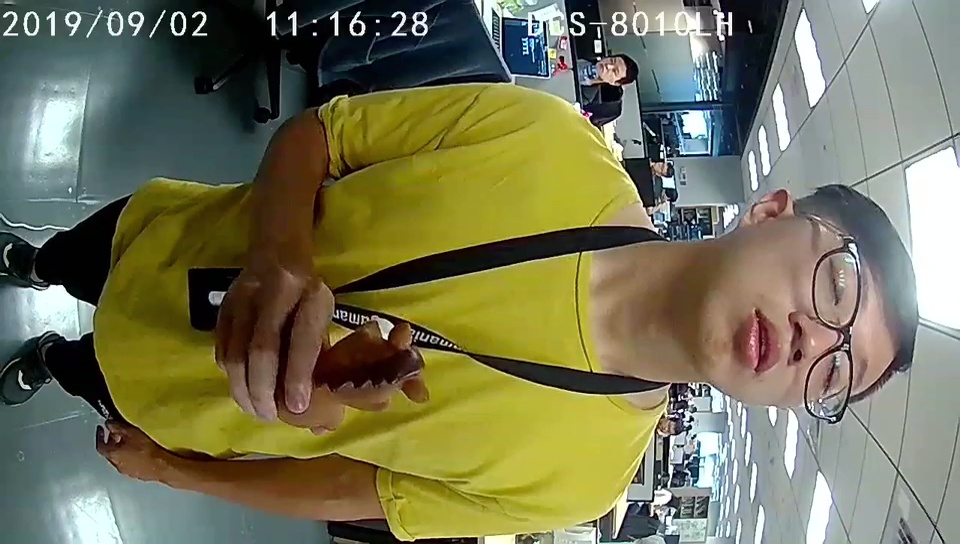horse: (321, 317, 431, 425)
